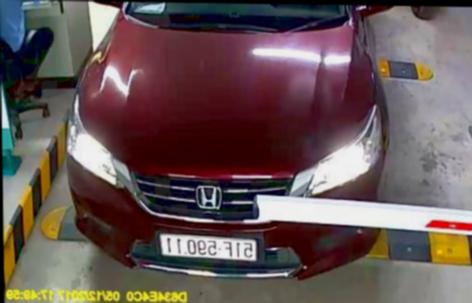License_Plate: (152, 229, 263, 266)
